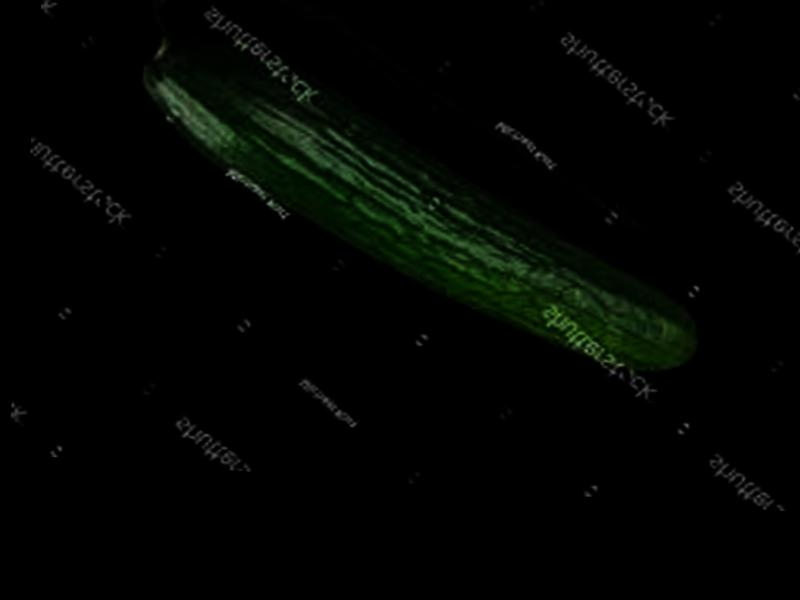Cucumber: (123, 23, 722, 377)
